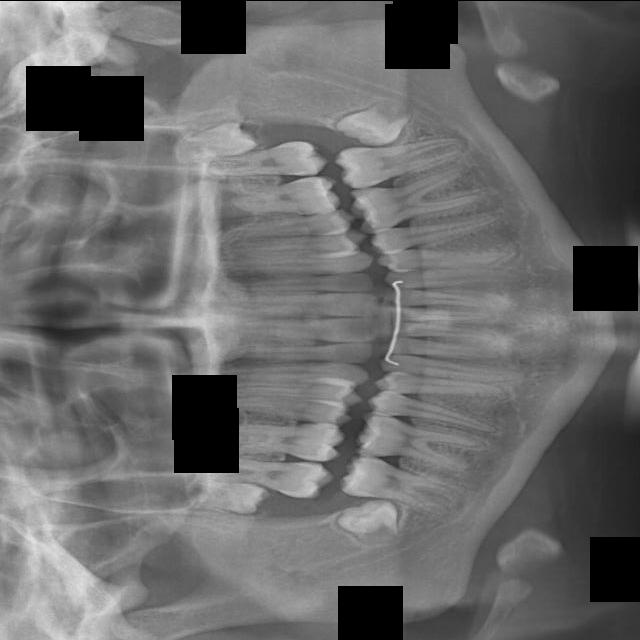3M ESPE Implant: (188, 475, 270, 518)
AGS Medikal Implant: (415, 140, 462, 159)
AMerOss Implant: (345, 158, 493, 238)
Amalgam filling: (194, 448, 335, 502)
Anthogyr Implant: (367, 201, 506, 257)
Bicon Implant: (376, 247, 513, 270)
BioHorizons Implant: (383, 266, 523, 290)
BioLife Implant: (382, 286, 490, 313)
Biomet 3i Implant: (385, 306, 495, 321)
Blue Sky Bio Implant: (388, 320, 498, 340)
Camlog Implant: (381, 335, 499, 360)
Caries: (220, 272, 376, 291)
Composite filling: (378, 351, 528, 387)
Cowellmedi Implant: (373, 370, 509, 404)
Crown: (365, 389, 500, 433)
DENTSPLY Implant: (219, 416, 348, 463)
Dentatus Implant: (354, 410, 492, 476)
Dentis Implant: (337, 450, 470, 522)
Dentium Implant: (337, 498, 402, 544)
Euroteknika Implant: (220, 389, 355, 427)
Filling: (210, 375, 366, 407)
Frontier Implant: (193, 359, 373, 385)
Hiossen Implant: (201, 250, 375, 279)
Implant: (221, 316, 382, 344)
Implant Direct: (219, 343, 375, 363)
Keystone Dental Implant: (201, 292, 379, 320)
MIS Implant: (219, 226, 369, 262)
Mandible: (214, 207, 355, 245)
Maxilla: (192, 169, 342, 221)
Megagen Implant: (197, 139, 328, 178)
Neodent Implant: (171, 115, 262, 162)
Neoss Implant: (332, 90, 422, 160)
